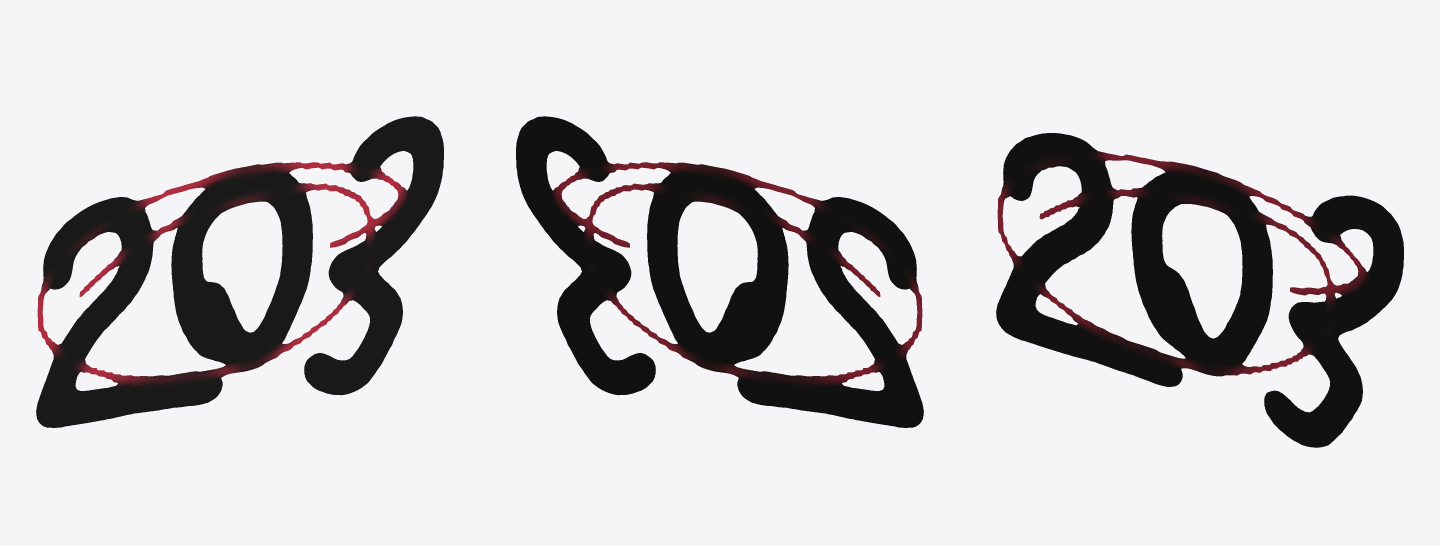
File: 203_graffiti.FBX
3 renders of one model, left to right at view 1: azimuth 30°, elevation 25°; view 2: azimuth 150°, elevation 25°; view 3: azimuth 330°, elevation 25°, orthographic.
Parts seen in each view (by area): view 1: 203_graffiti; view 2: 203_graffiti; view 3: 203_graffiti.
Boxes of the visible parts, x1,y1,x2,y2 form: 203_graffiti: (36,116,443,427); 203_graffiti: (516,116,923,427); 203_graffiti: (996,133,1403,447).
Size of the model in its own units: 35.37 by 30.5 by 1.05e-05.
